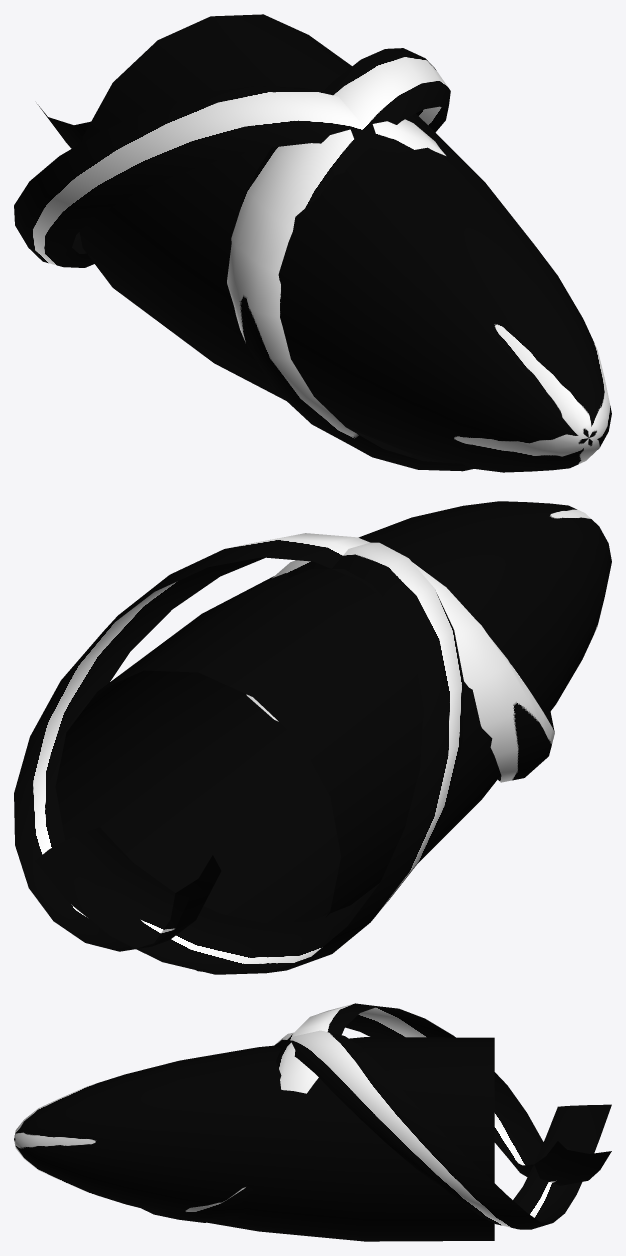
File: melee_v2_basic.gltf
3 views of the same model, one above another, from view 1: azimuth 30°, elevation 25°; view 2: azimuth 150°, elevation 25°; view 3: azimuth 270°, elevation 25° (orthographic). The views are drawn at different scales.
Parts seen in each view (by area): view 1: Melee_v2; view 2: Melee_v2; view 3: Melee_v2.
Part boxes in pixels (x1=…): Melee_v2: x1=14, y1=14, x2=611, y2=472; Melee_v2: x1=14, y1=501, x2=611, y2=974; Melee_v2: x1=14, y1=1003, x2=611, y2=1241.
Size of the model in its own units: 0.6297 by 0.5107 by 1.36.
1 material, 1 textured.
